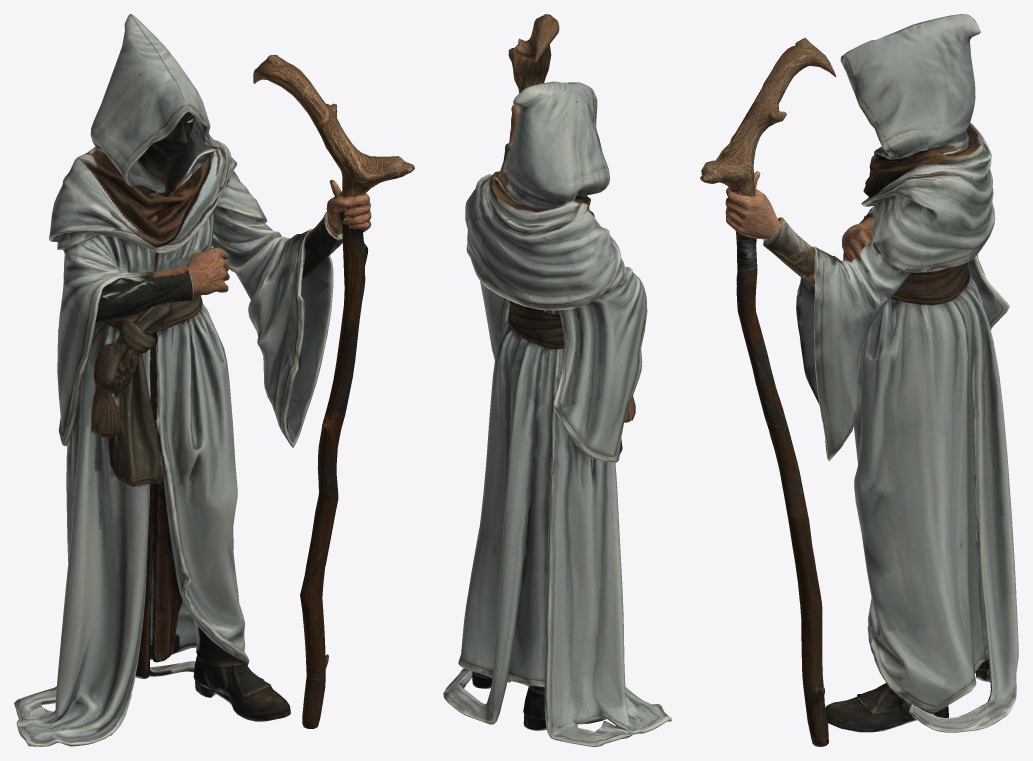
Rendered from wizard_white.glb.
3 renders of one model, left to right at view 1: azimuth 30°, elevation 25°; view 2: azimuth 150°, elevation 25°; view 3: azimuth 270°, elevation 25°, orthographic. The views are drawn at different scales.
Bounding box in the file's own units: 0.8155 × 1.9 × 0.8016.
Materials: 1 (1 with a texture image).
